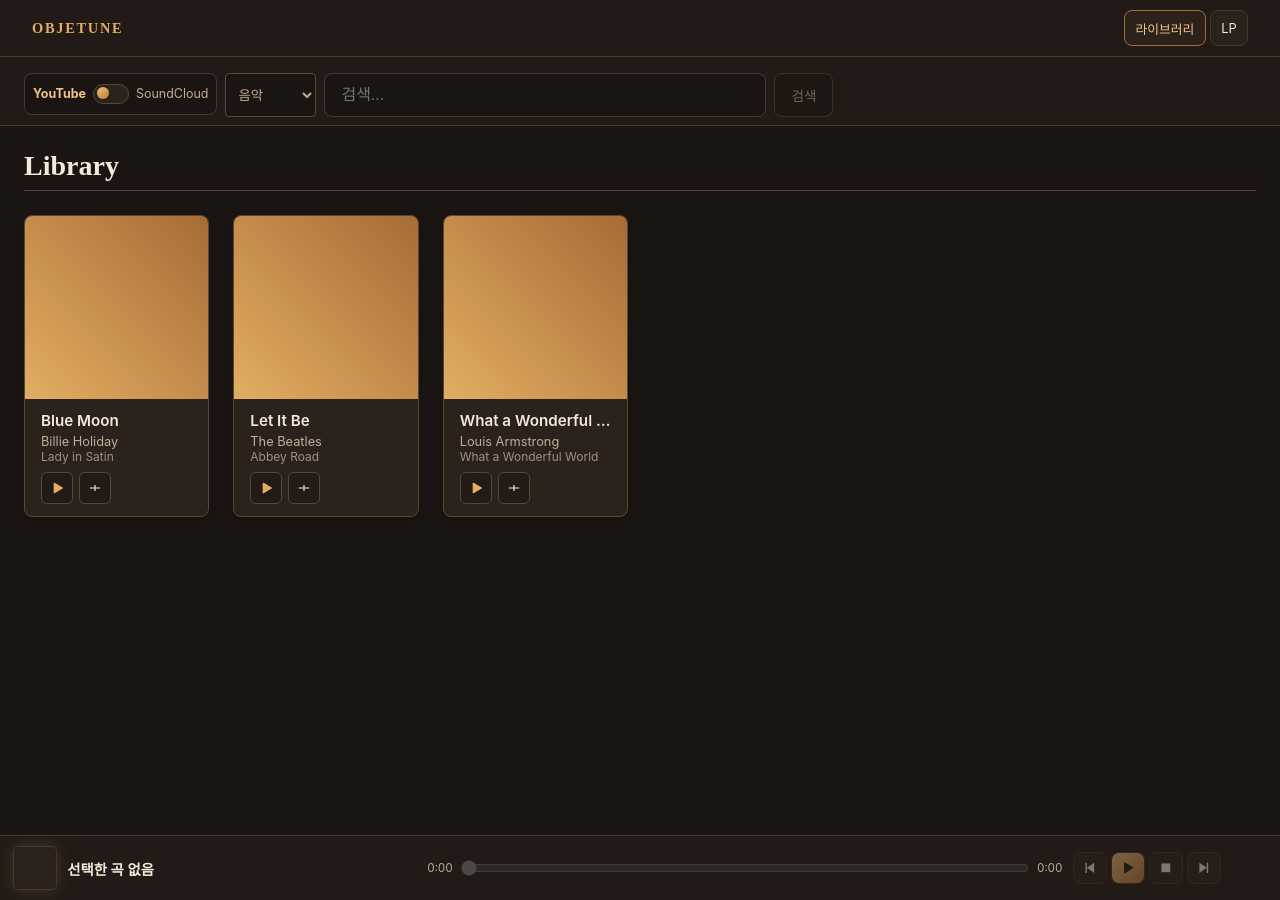
Test case: App › renders search bar
Expected: the search field named "Search music" is shown, [324,73,766,117]
Click the switch named "SoundCloud 모드": coordinates (121, 94) [24,73,217,115]
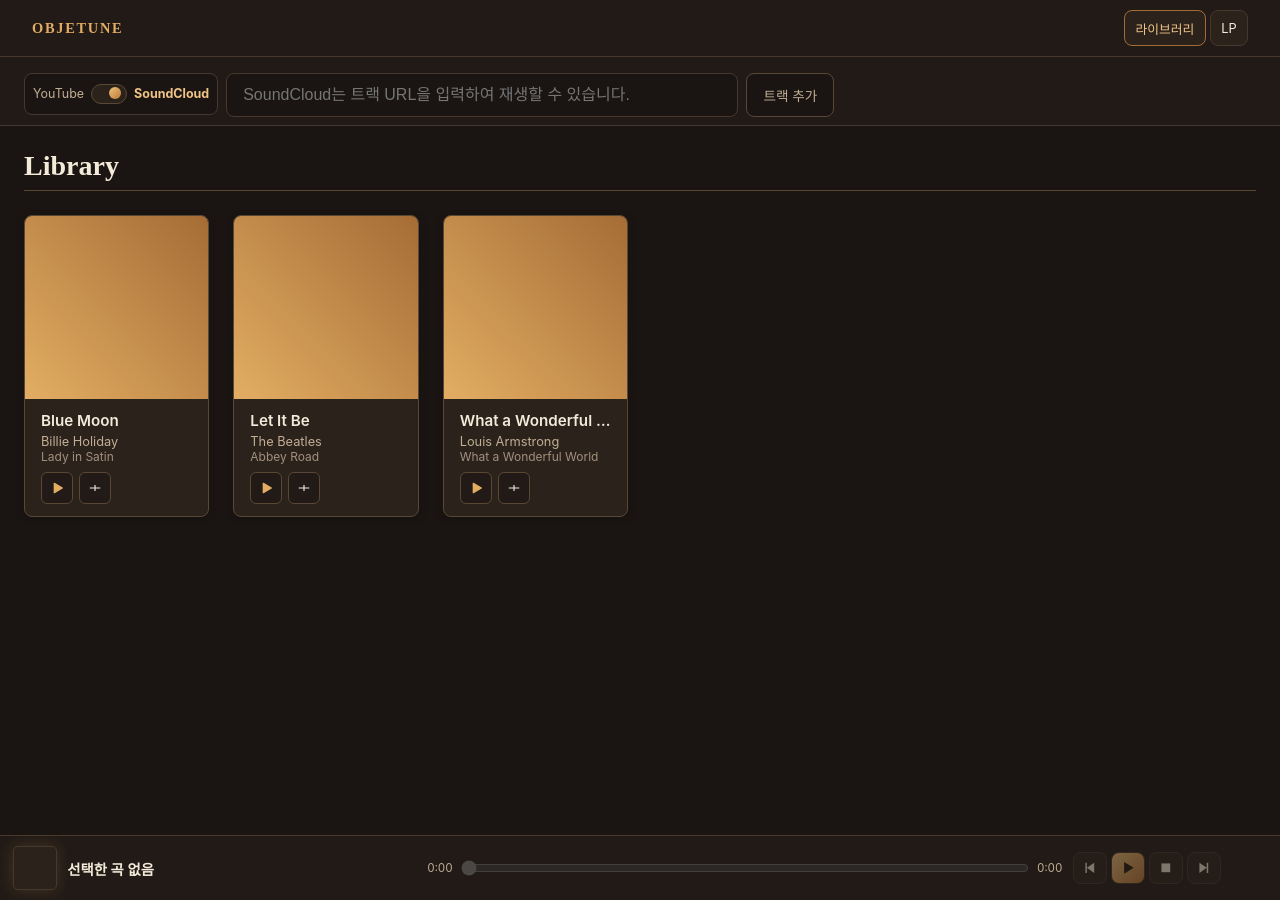
Expected: the switch named "SoundCloud 모드" is checked, [24,73,218,115]
Expected: the field with placeholder "SoundCloud는 트랙 URL을 입력하여 재생할 수 있습니다." is shown, [226,73,738,117]
Expected: the button with aria-label "Add SoundCloud track" is shown, [746,73,834,117]
